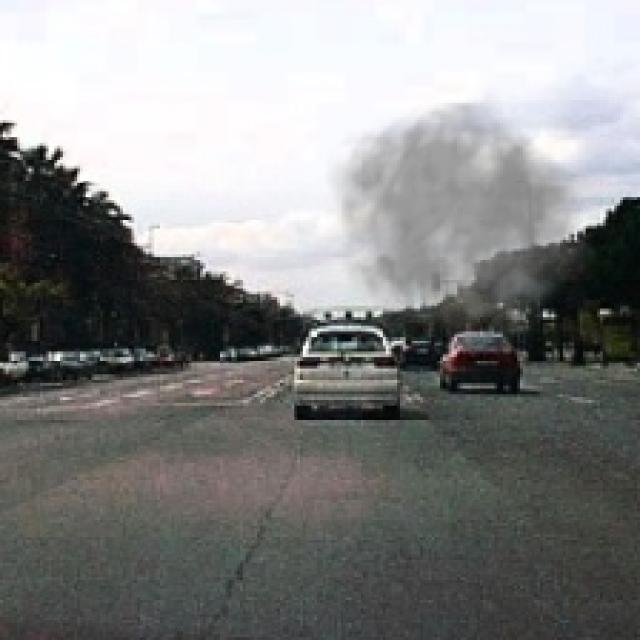smoke: (326, 100, 603, 351)
